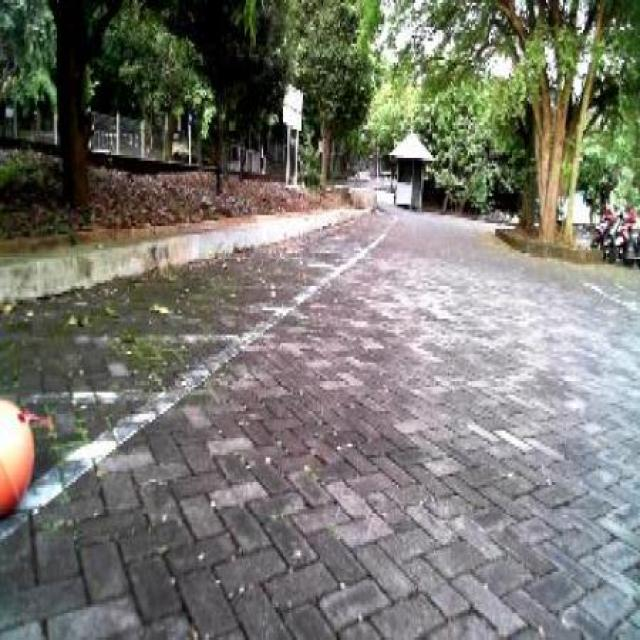buoy: (0, 368, 41, 552)
